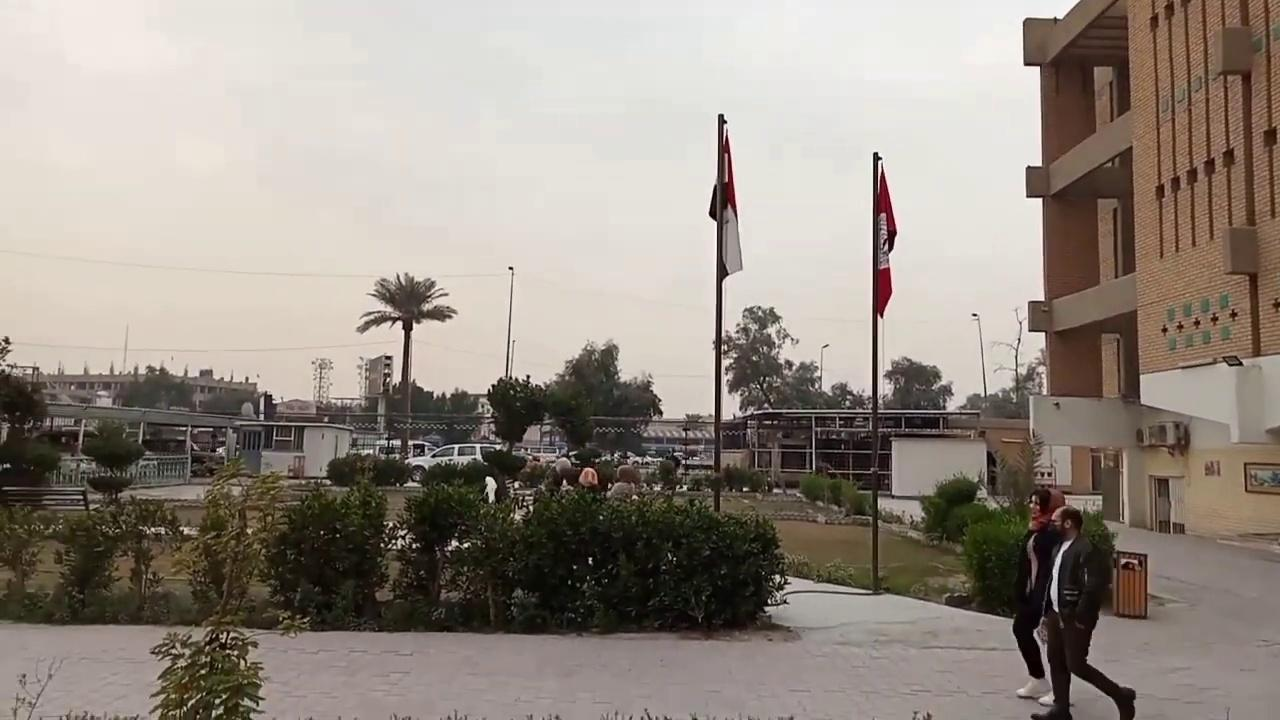car: (401, 442, 532, 483)
person: (1031, 505, 1136, 719), (1011, 486, 1066, 700), (605, 464, 640, 500)
tree: (3, 451, 793, 632), (147, 454, 304, 718), (260, 477, 390, 631), (355, 270, 457, 457), (543, 338, 662, 454), (393, 479, 483, 604), (712, 303, 799, 414), (106, 493, 182, 618), (0, 335, 61, 488), (960, 500, 1031, 614), (51, 512, 121, 619), (0, 500, 59, 602), (988, 305, 1045, 405), (78, 422, 144, 507), (918, 470, 989, 544), (484, 374, 545, 452), (992, 427, 1045, 513), (882, 355, 953, 411), (543, 376, 594, 451), (992, 353, 1043, 406), (779, 359, 826, 409), (310, 356, 333, 405)
